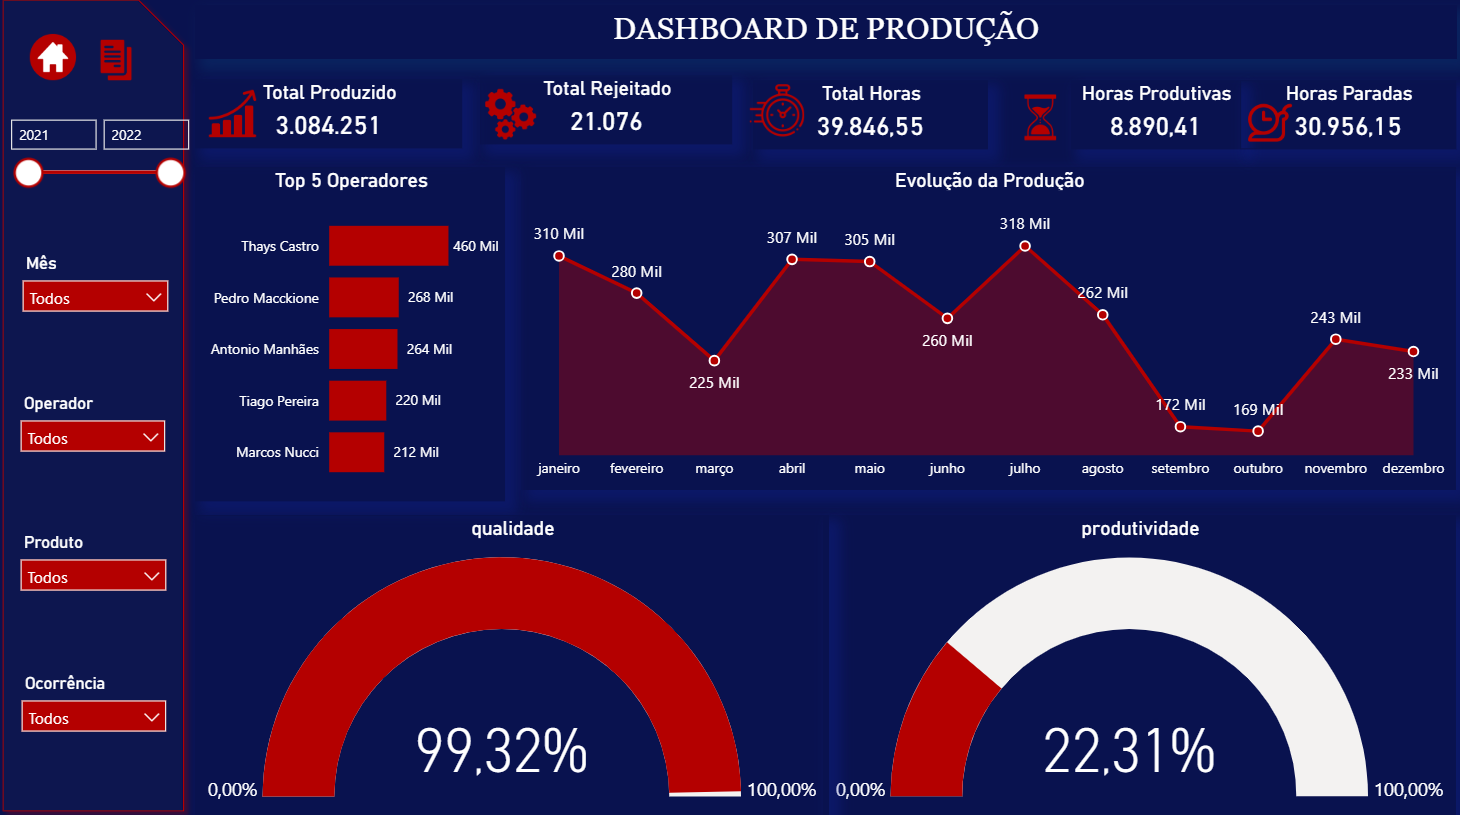

The page's visual inventory and layout, read from the dashboard file:
{"tool":"powerbi","page":{"name":"Dasboard","canvas":[1280,720],"ordinal":1},"visuals":[{"type":"shape","box":[0,0,175.1,720],"z":0},{"type":"card","title":"Total Produzido ","fields":{"Values":["medidas.total produzido"]},"box":[175.1,78.1,230.7,60.1],"z":1000},{"type":"card","title":"Total Rejeitado","fields":{"Values":["medidas.total rejeitado"]},"box":[421.9,74.5,218.2,60.1],"z":2000},{"type":"card","title":"Total Horas","fields":{"Values":["medidas.total de horas"]},"box":[658.1,79,202.9,60.1],"z":3000},{"type":"card","title":"Horas Produtivas","fields":{"Values":["medidas.horas produtivas"]},"box":[932.7,78.8,146,60],"z":4000},{"type":"card","title":"Horas Paradas","fields":{"Values":["medidas.horas paradas"]},"box":[1079.1,79,186.7,60.1],"z":5000},{"type":"slicer","fields":{"Values":["BaseProdução.Produto"]},"box":[14.4,465.4,146.3,75.4],"z":6000},{"type":"slicer","fields":{"Values":["BaseProdução.Data Inicio.Variation.Hierarquia de datas.Mês"]},"box":[16.2,223.8,146.3,74.5],"z":7000},{"type":"slicer","fields":{"Values":["BaseProdução.Operador"]},"box":[14.4,344.6,145.4,74.5],"z":8000},{"type":"slicer","fields":{"Values":["BaseProdução.Ocorrência"]},"box":[15.3,587.1,145.4,75.4],"z":9000},{"type":"slicer","fields":{"Values":["BaseProdução.Data Inicio.Variation.Hierarquia de datas.Ano"]},"box":[3.1,102.4,172.4,75],"z":10000},{"type":"areaChart","title":"Evolução da Produção","fields":{"Y":["medidas.total produzido"],"Category":["BaseProdução.Data Inicio.Variation.Hierarquia de datas.Mês"]},"box":[457.1,153.7,808.3,279.1],"z":11000},{"type":"barChart","title":"Top 5 Operadores ","fields":{"Category":["BaseProdução.Operador"],"Y":["medidas.qtd real"]},"box":[175.1,153.7,268.4,288.9],"z":12000},{"type":"gauge","fields":{"Y":["medidas.produtividade"]},"box":[718.2,454.3,546.7,265.7],"z":13000},{"type":"gauge","fields":{"Y":["medidas.qualidade"]},"box":[175.1,454.3,547.6,265.7],"z":14000},{"type":"textbox","box":[175.1,13.5,1090.8,46.7],"z":15000},{"type":"image","box":[27.8,33.2,50.3,52.1],"z":16000},{"type":"image","box":[84.4,38.6,44.9,45.8],"z":17000},{"type":"image","box":[182.2,82.3,51.2,51.2],"z":18000},{"type":"image","box":[418.4,81.1,60.1,53.9],"z":19000},{"type":"image","box":[878.9,82.6,53.9,56.6],"z":20000},{"type":"image","box":[650,74.5,56.6,60.1],"z":21000},{"type":"image","box":[1079.1,91.6,53,48.5],"z":22000}]}

Visuals, with their boxes in screenshot pixels (x1, y1, x2, y2), scaled from the page's 1280x720 canvas onto the 1460x815 screenshot:
shape: select_region(0, 0, 200, 814)
"Total Produzido " card: select_region(200, 88, 463, 156)
"Total Rejeitado" card: select_region(481, 84, 730, 152)
"Total Horas" card: select_region(751, 89, 982, 157)
"Horas Produtivas" card: select_region(1064, 89, 1230, 157)
"Horas Paradas" card: select_region(1231, 89, 1444, 157)
slicer - BaseProdução.Produto: select_region(16, 527, 183, 612)
slicer - BaseProdução.Data Inicio.Variation.Hierarquia de datas.Mês: select_region(18, 253, 185, 338)
slicer - BaseProdução.Operador: select_region(16, 390, 182, 474)
slicer - BaseProdução.Ocorrência: select_region(17, 665, 183, 750)
slicer - BaseProdução.Data Inicio.Variation.Hierarquia de datas.Ano: select_region(4, 116, 200, 201)
"Evolução da Produção" areaChart: select_region(521, 174, 1443, 490)
"Top 5 Operadores " barChart: select_region(200, 174, 506, 501)
gauge - medidas.produtividade: select_region(819, 514, 1443, 814)
gauge - medidas.qualidade: select_region(200, 514, 824, 814)
textbox: select_region(200, 15, 1444, 68)
image: select_region(32, 38, 89, 97)
image: select_region(96, 44, 147, 96)
image: select_region(208, 93, 266, 151)
image: select_region(477, 92, 546, 153)
image: select_region(1002, 93, 1064, 158)
image: select_region(741, 84, 806, 152)
image: select_region(1231, 104, 1291, 159)
